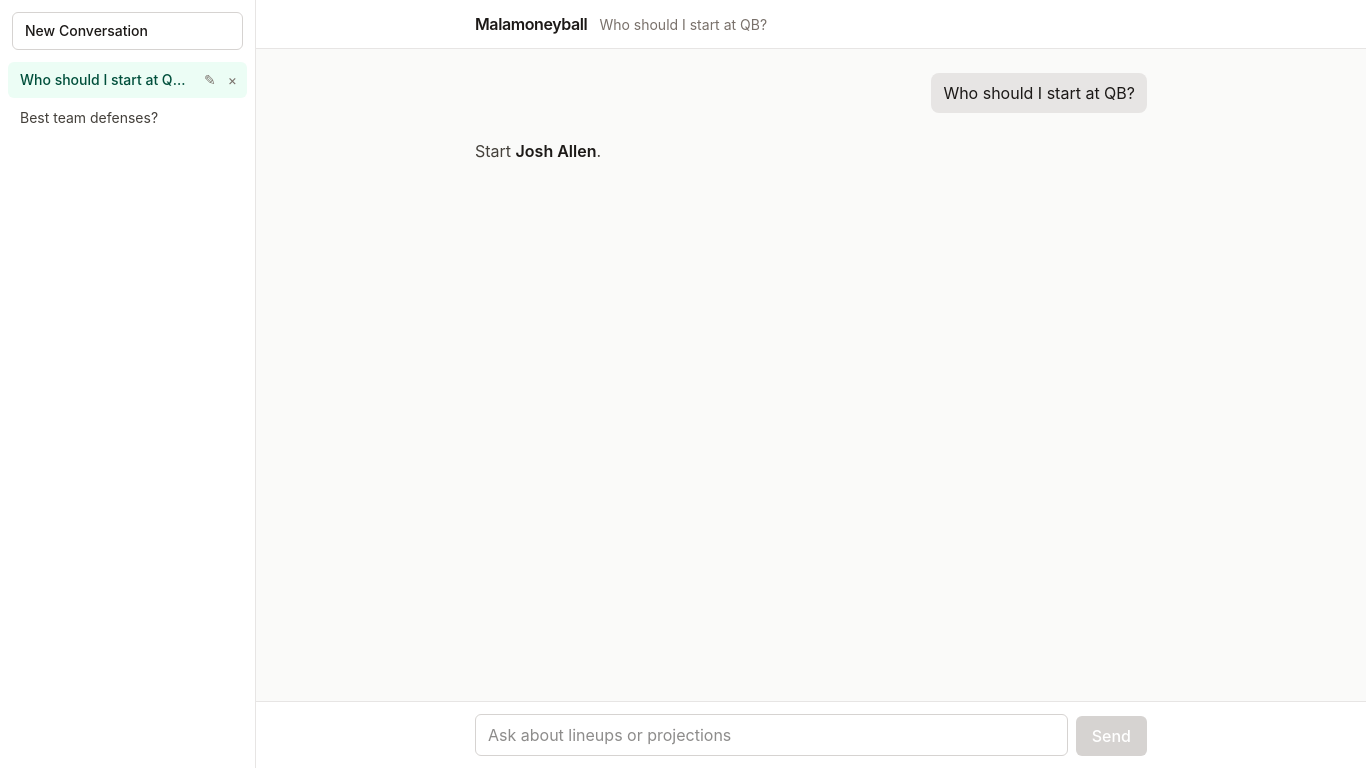
Test case: cancelling a delete changes nothing
This screenshot has width=1366, height=768.
Expected: the text "Josh Allen" is shown, [516,141,596,161]
Click the button "×": click(232, 80) [222,66,243,94]
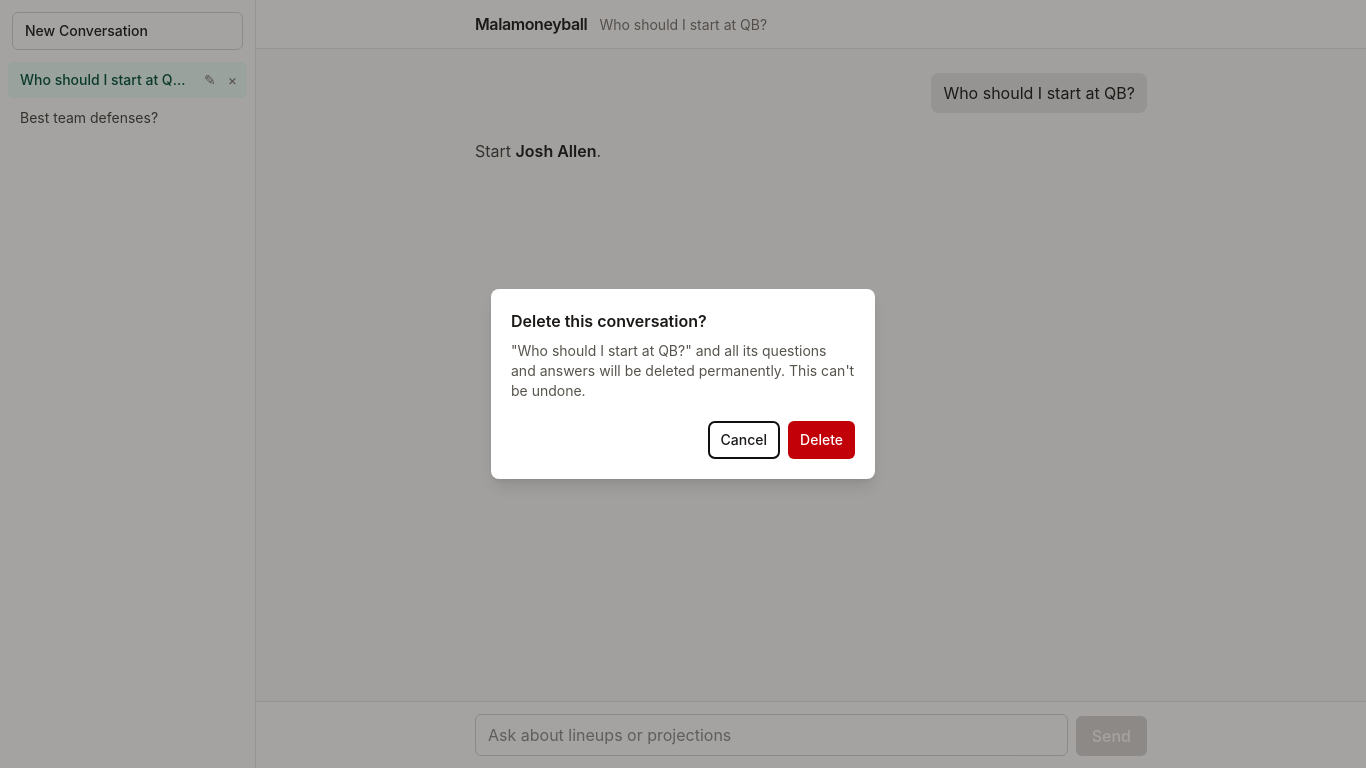
Click the button "Cancel": click(744, 440) [708,421,780,459]
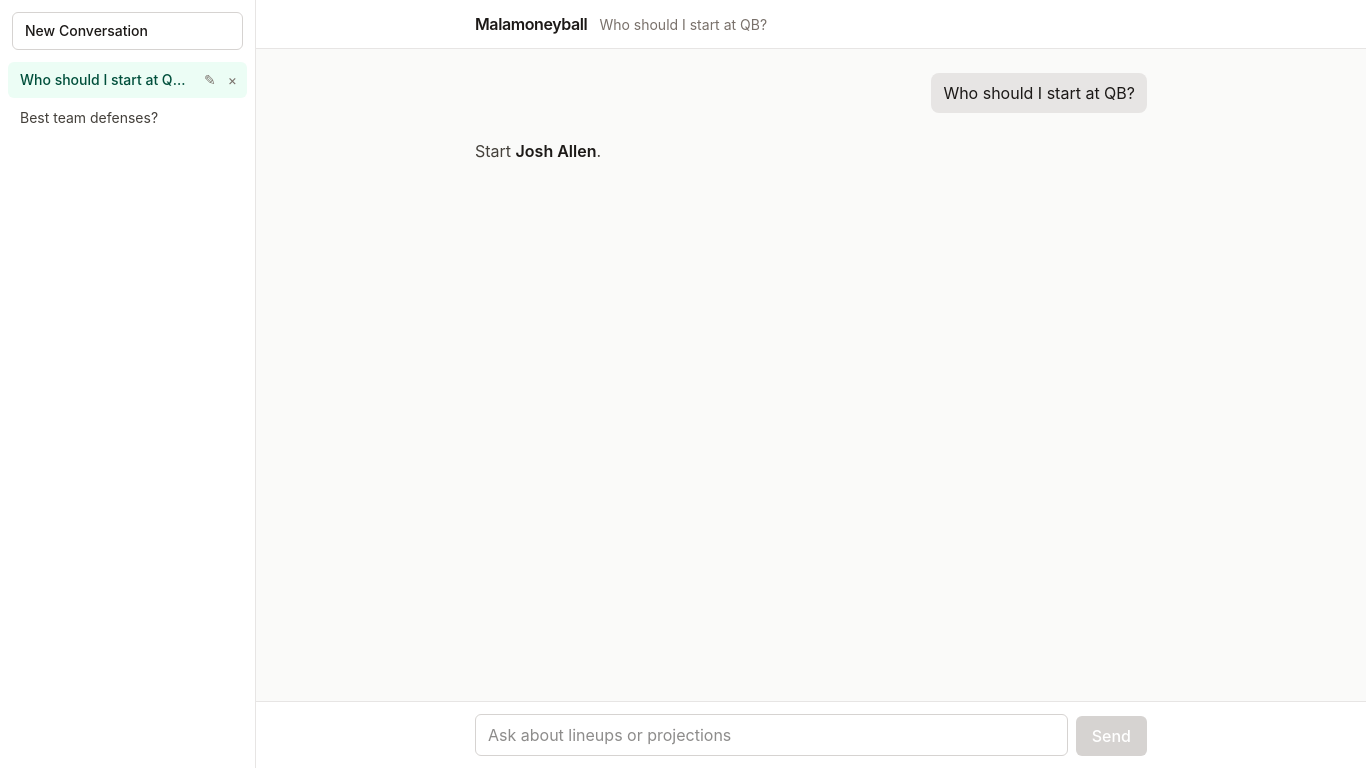
Expected: the dialog is gone
